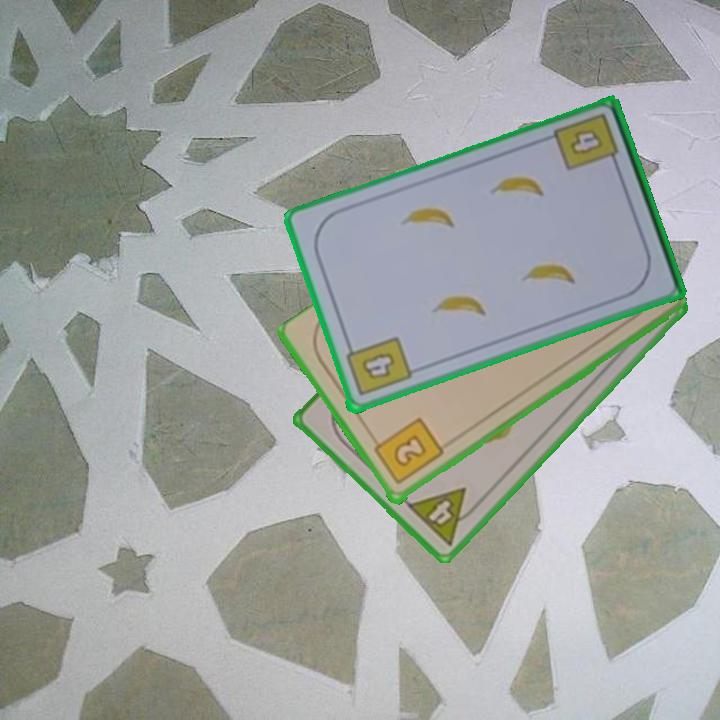2b: (368, 415, 447, 488)
4b: (341, 333, 414, 400), (566, 126, 606, 159)
4p: (403, 484, 484, 549)
